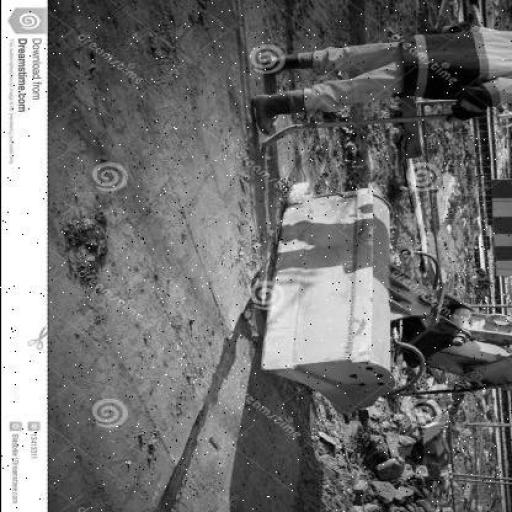safety_shoe: (247, 92, 298, 130), (260, 48, 312, 75)
